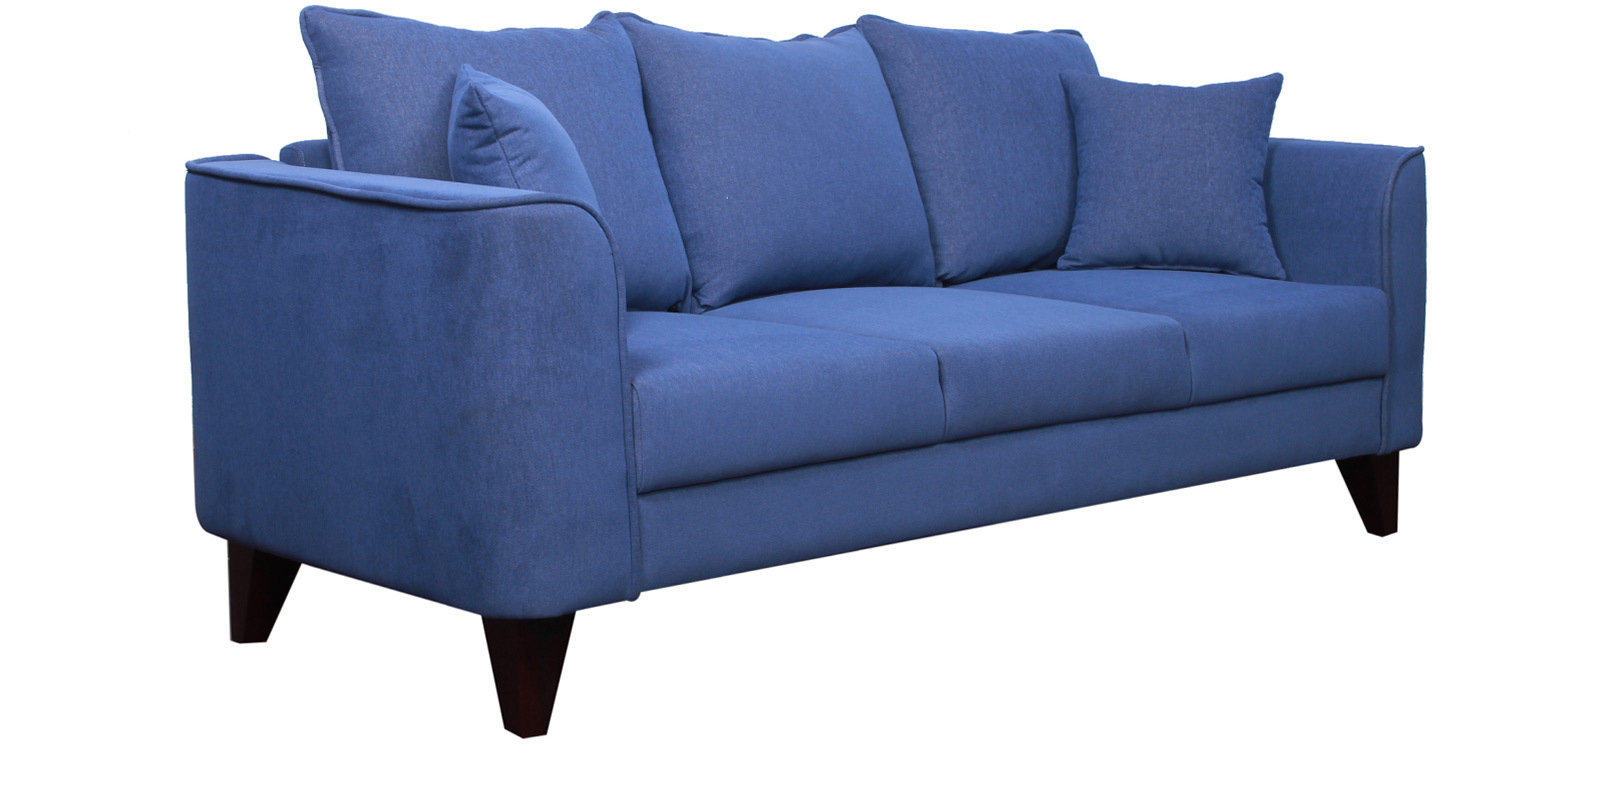Lara Three Seater Sofa in Denim Blue Colour by CasaCraft: (185, 3, 1430, 739)
